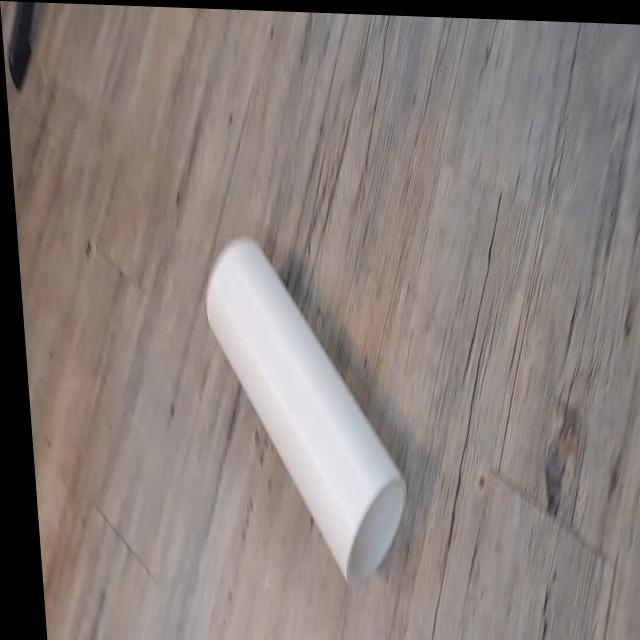CORAL: (190, 205, 417, 594)
